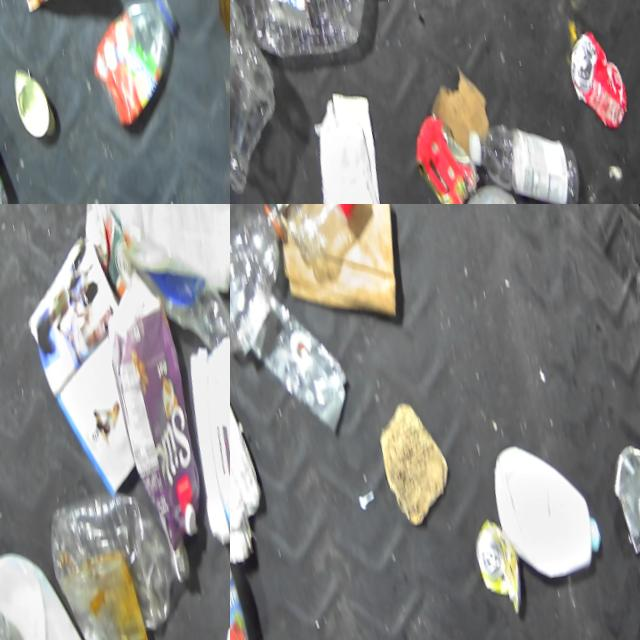can: (406, 95, 494, 204), (562, 11, 640, 128), (468, 500, 536, 613), (8, 54, 65, 142), (604, 422, 640, 549)
milk_jug: (482, 415, 616, 587), (67, 204, 230, 315), (0, 525, 131, 640), (449, 163, 545, 204)
non_white_jug: (86, 253, 229, 556)
plastic_bottle: (37, 465, 210, 640), (114, 204, 230, 363), (464, 95, 593, 204), (230, 204, 314, 362), (230, 0, 401, 74), (259, 204, 406, 273), (230, 453, 274, 640), (0, 590, 60, 640)
